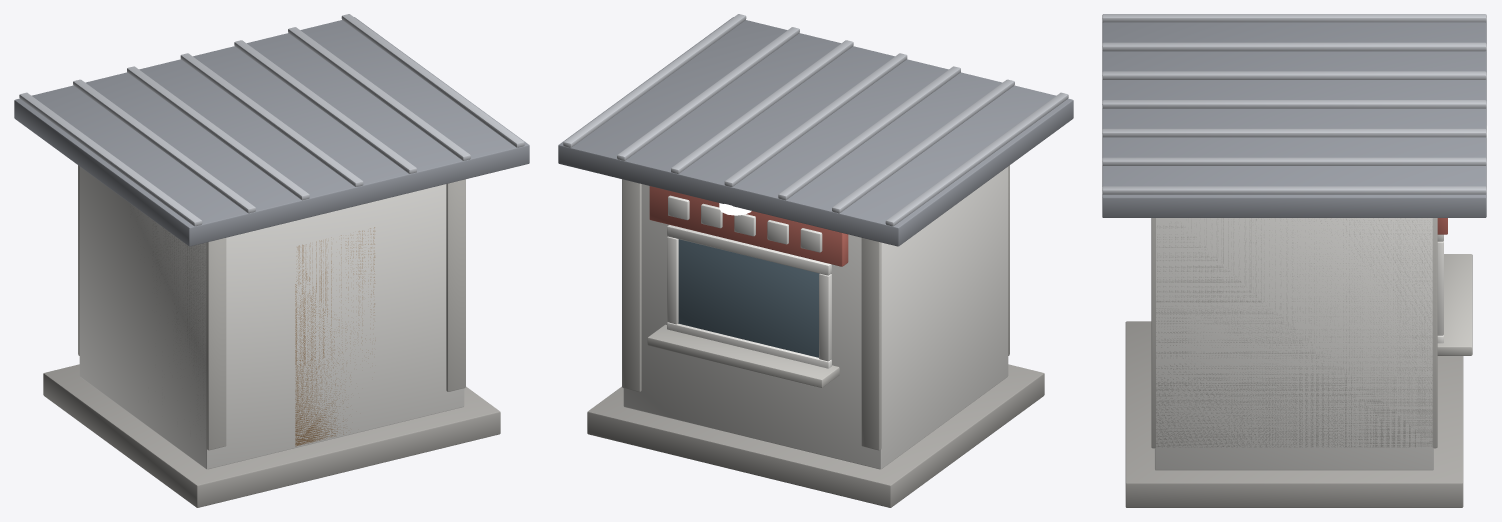
The model's file is th44_kasse.glb.
3 renders of one model, left to right at view 1: azimuth 30°, elevation 25°; view 2: azimuth 150°, elevation 25°; view 3: azimuth 270°, elevation 25°, orthographic. The views are drawn at different scales.
Parts seen in each view (by area): view 1: Cube.001, Cube.018, Cube, Cube.002, Cube.017, Cube.003, Cube.022, Cube.019, Cube.025, Cube.020, Cube.021, Cube.023 (+1 smaller); view 2: Cube.018, Cube.001, Cube, Cube.004, Cube.002, Cube.011, Cube.003, Cube.009, Cube.022, Cube.019, Cube.025, Cube.020 (+7 smaller); view 3: Cube.001, Cube.018, Cube.003, Cube, Cube.020, Cube.023, Cube.019, Cube.021, Cube.024, Cube.022, Cube.025, Cube.009 (+1 smaller).
Boxes of the visible parts, box(x1,y1,x2,y2) form: Cube.001: box(79, 167, 464, 469); Cube.018: box(14, 17, 529, 246); Cube: box(43, 364, 500, 507); Cube.002: box(78, 165, 226, 450); Cube.017: box(295, 227, 375, 446); Cube.003: box(446, 179, 465, 391); Cube.022: box(180, 53, 363, 186); Cube.019: box(19, 92, 202, 226); Cube.025: box(341, 14, 524, 147); Cube.020: box(73, 79, 255, 213); Cube.021: box(127, 66, 309, 200); Cube.023: box(234, 40, 416, 173); Cube.018: box(558, 17, 1073, 246); Cube.001: box(623, 167, 1008, 469); Cube: box(587, 364, 1044, 507); Cube.004: box(678, 239, 819, 357); Cube.002: box(861, 165, 1009, 450); Cube.011: box(649, 186, 848, 266); Cube.003: box(622, 179, 641, 391); Cube.009: box(647, 324, 839, 387); Cube.022: box(724, 53, 907, 186); Cube.019: box(885, 92, 1068, 226); Cube.025: box(563, 14, 746, 147); Cube.020: box(832, 79, 1014, 213); Cube.001: box(1154, 218, 1433, 470); Cube.018: box(1102, 21, 1486, 217); Cube.003: box(1151, 218, 1437, 448); Cube: box(1125, 321, 1463, 507); Cube.020: box(1102, 42, 1486, 51); Cube.023: box(1102, 128, 1486, 137); Cube.019: box(1102, 14, 1486, 22); Cube.021: box(1102, 71, 1486, 79); Cube.024: box(1102, 157, 1486, 165); Cube.022: box(1102, 100, 1486, 108); Cube.025: box(1102, 186, 1486, 194); Cube.009: box(1437, 254, 1472, 355).
Size of the model in its own units: 3.7 by 3.08 by 3.31.
